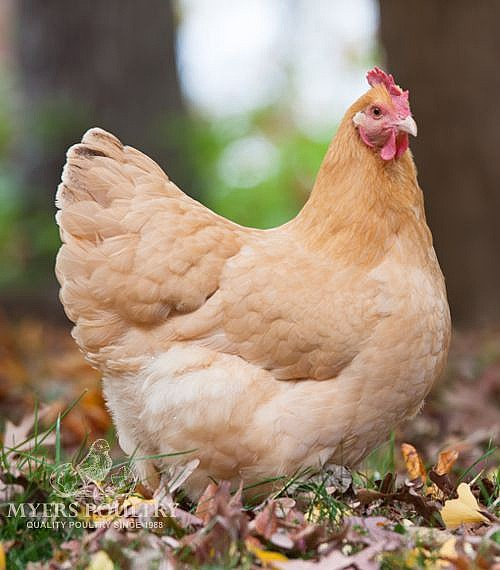buff: (221, 77, 427, 394)
